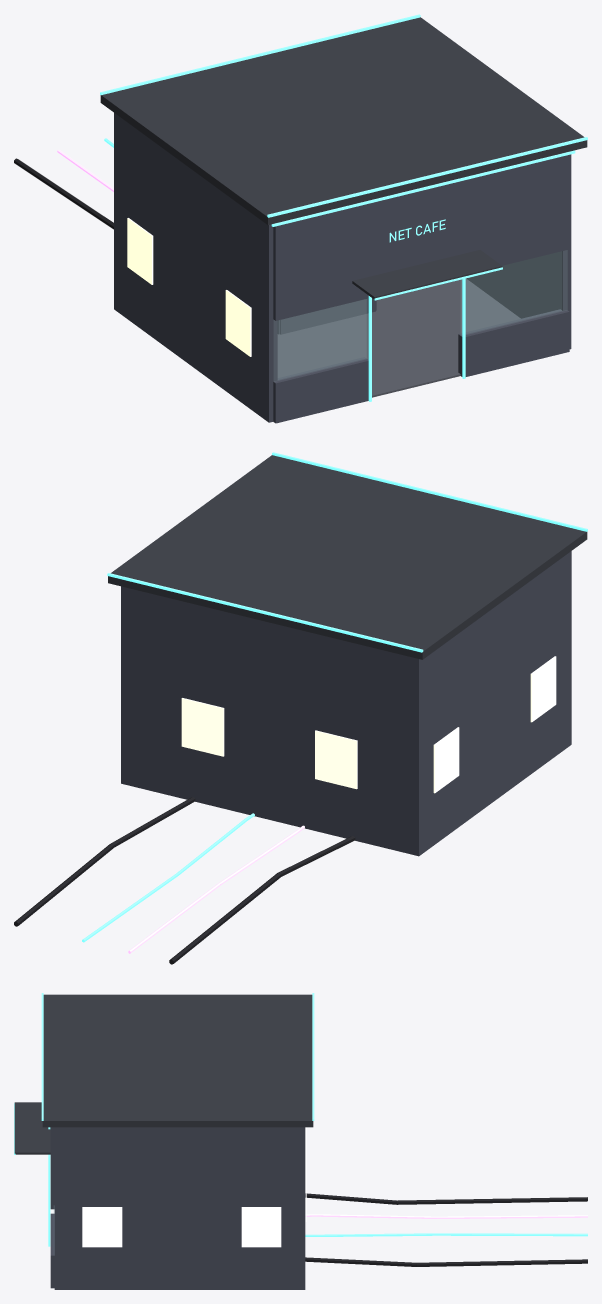
File: terminal.glb
The picture shows the model from 3 angles, top to bottom: view 1: azimuth 30°, elevation 25°; view 2: azimuth 150°, elevation 25°; view 3: azimuth 270°, elevation 25°; orthographic projection. The views are drawn at different scales.
Parts seen in each view (by area): view 1: Desk, Roof, Floor, Window, Awning, Side window, Front glow, Roof edge, Roof edge.001, Keyboard; view 2: Desk, Roof, Side window, Keyboard, Roof edge.001, Roof edge, Knob, Front glow; view 3: Desk, Roof, Side window, Keyboard, Awning, Front glow, Knob.
Boxes of the visible parts, box(x1,y1,x2,y2) form: Desk: box(114, 113, 571, 423); Roof: box(100, 17, 587, 224); Floor: box(277, 278, 520, 397); Window: box(274, 250, 567, 380); Awning: box(352, 250, 502, 299); Side window: box(127, 218, 251, 356); Front glow: box(104, 138, 575, 401); Roof edge: box(267, 137, 587, 217); Roof edge.001: box(100, 14, 420, 95); Keyboard: box(14, 158, 113, 229); Desk: box(121, 551, 571, 856); Roof: box(108, 455, 587, 659); Side window: box(181, 656, 556, 793); Keyboard: box(14, 797, 355, 964); Roof edge.001: box(107, 573, 423, 652); Roof edge: box(272, 452, 587, 531); Knob: box(128, 825, 304, 953); Front glow: box(82, 813, 254, 942); Desk: box(50, 1127, 305, 1289); Roof: box(42, 994, 313, 1127); Side window: box(82, 1127, 306, 1247); Keyboard: box(305, 1193, 587, 1266); Awning: box(14, 1102, 50, 1154); Front glow: box(14, 1103, 587, 1246); Knob: box(305, 1214, 587, 1218).
Bounding box in the file's own units: 7.5 × 4.85 × 14.42.
